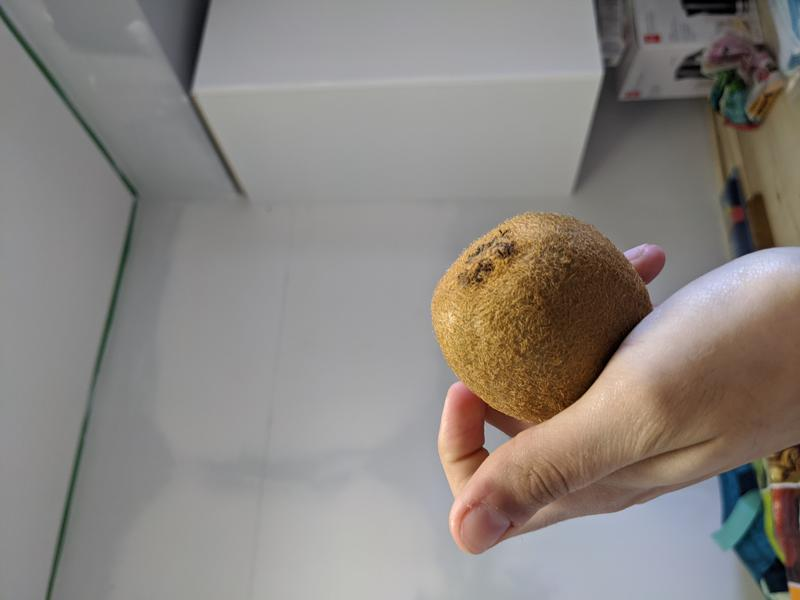kiwi: (431, 210, 654, 424)
